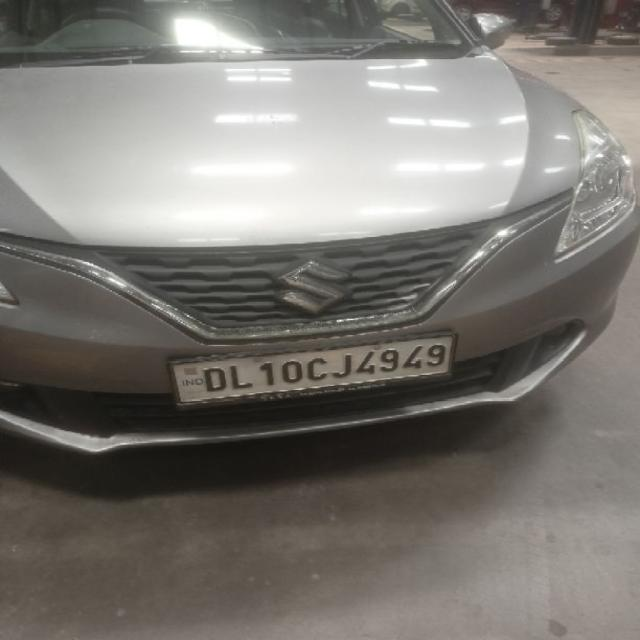license_plate: (166, 331, 457, 409)
